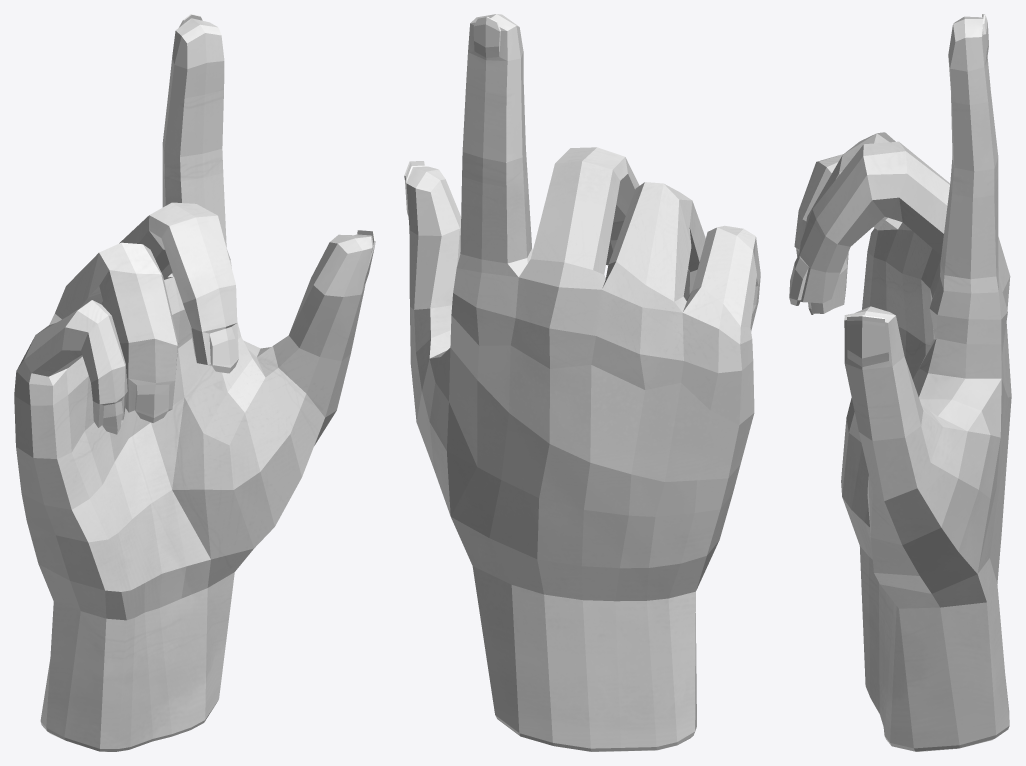
The model's file is r_hard_point1.glb.
The picture shows the model from 3 angles, left to right: view 1: azimuth 30°, elevation 25°; view 2: azimuth 150°, elevation 25°; view 3: azimuth 270°, elevation 25°; orthographic projection. The views are drawn at different scales.
Parts seen in each view (by area): view 1: R_Hard_Point1; view 2: R_Hard_Point1; view 3: R_Hard_Point1.
Boxes of the visible parts, x1=… form: R_Hard_Point1: x1=14, y1=14, x2=375, y2=751; R_Hard_Point1: x1=404, y1=14, x2=760, y2=751; R_Hard_Point1: x1=789, y1=14, x2=1011, y2=751.
Size of the model in its own units: 0.1278 by 0.2444 by 0.0655.
1 material, 1 textured.
